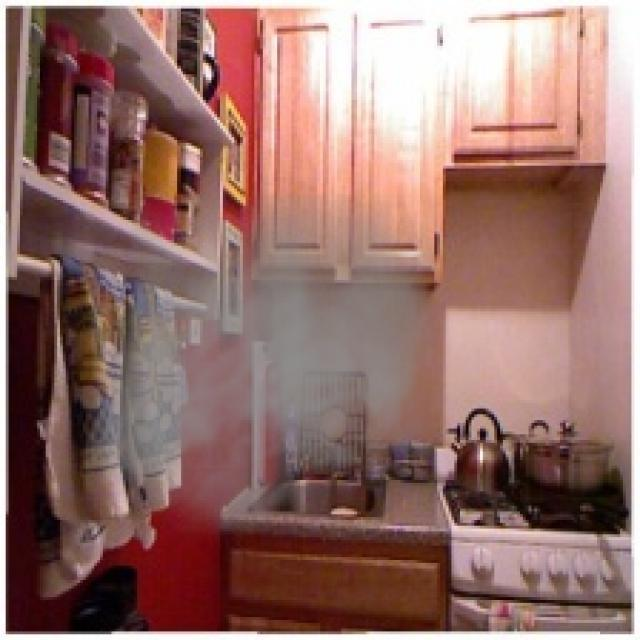Smoke: (86, 194, 437, 549)
